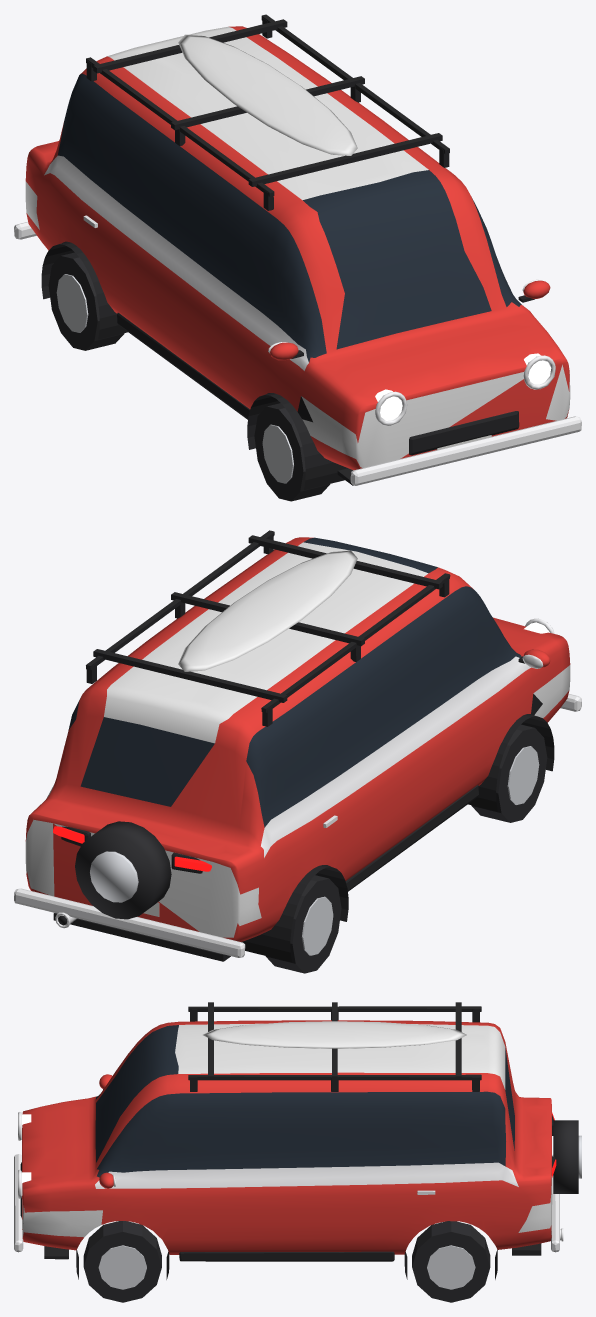
The model's file is sundog_lod.glb.
3 views of the same model, one above another, from view 1: azimuth 30°, elevation 25°; view 2: azimuth 150°, elevation 25°; view 3: azimuth 270°, elevation 25° (orthographic). The views are drawn at different scales.
Parts seen in each view (by area): view 1: body, wheel_rr, wheel_fr; view 2: body, wheel_fr, wheel_rr; view 3: body, wheel_fl, wheel_rl.
Part boxes in pixels (x1=…): body: x1=14, y1=14, x2=581, y2=489; wheel_rr: x1=48, y1=252, x2=124, y2=350; wheel_fr: x1=254, y1=403, x2=330, y2=501; body: x1=14, y1=530, x2=581, y2=962; wheel_fr: x1=471, y1=724, x2=547, y2=822; wheel_rr: x1=265, y1=875, x2=341, y2=973; body: x1=14, y1=1002, x2=581, y2=1279; wheel_fl: x1=83, y1=1221, x2=161, y2=1302; wheel_rl: x1=412, y1=1221, x2=490, y2=1302.
Size of the model in its own units: 2.23 by 2.14 by 4.93.
